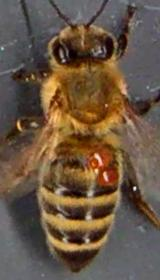varroa_mite: (81, 146, 112, 168), (95, 166, 122, 184)
